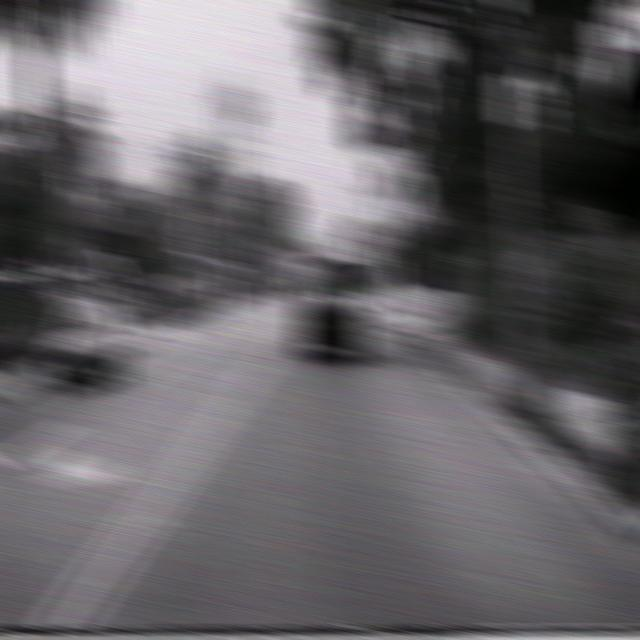pedestrianCrossing: (356, 212, 388, 248)
